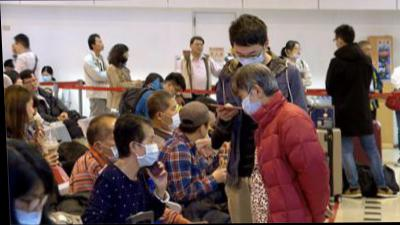NONE: (199, 118, 210, 141), (25, 103, 35, 122), (166, 86, 180, 98), (193, 42, 204, 55), (27, 79, 38, 92), (97, 38, 106, 51), (17, 77, 24, 89), (366, 48, 374, 56)
OK: (134, 132, 159, 168), (238, 90, 262, 118), (236, 48, 264, 71), (167, 103, 182, 132), (121, 53, 129, 65), (43, 73, 51, 83)
WRONG: (8, 188, 48, 225), (293, 47, 302, 59)
